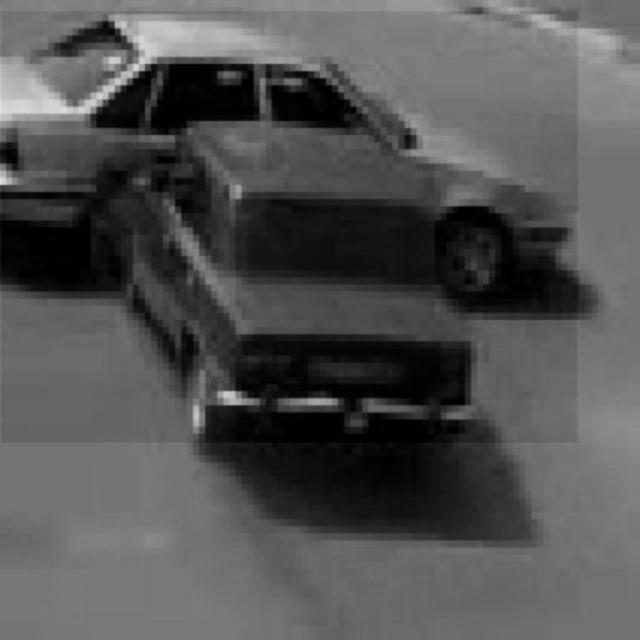accident: (2, 12, 578, 443)
